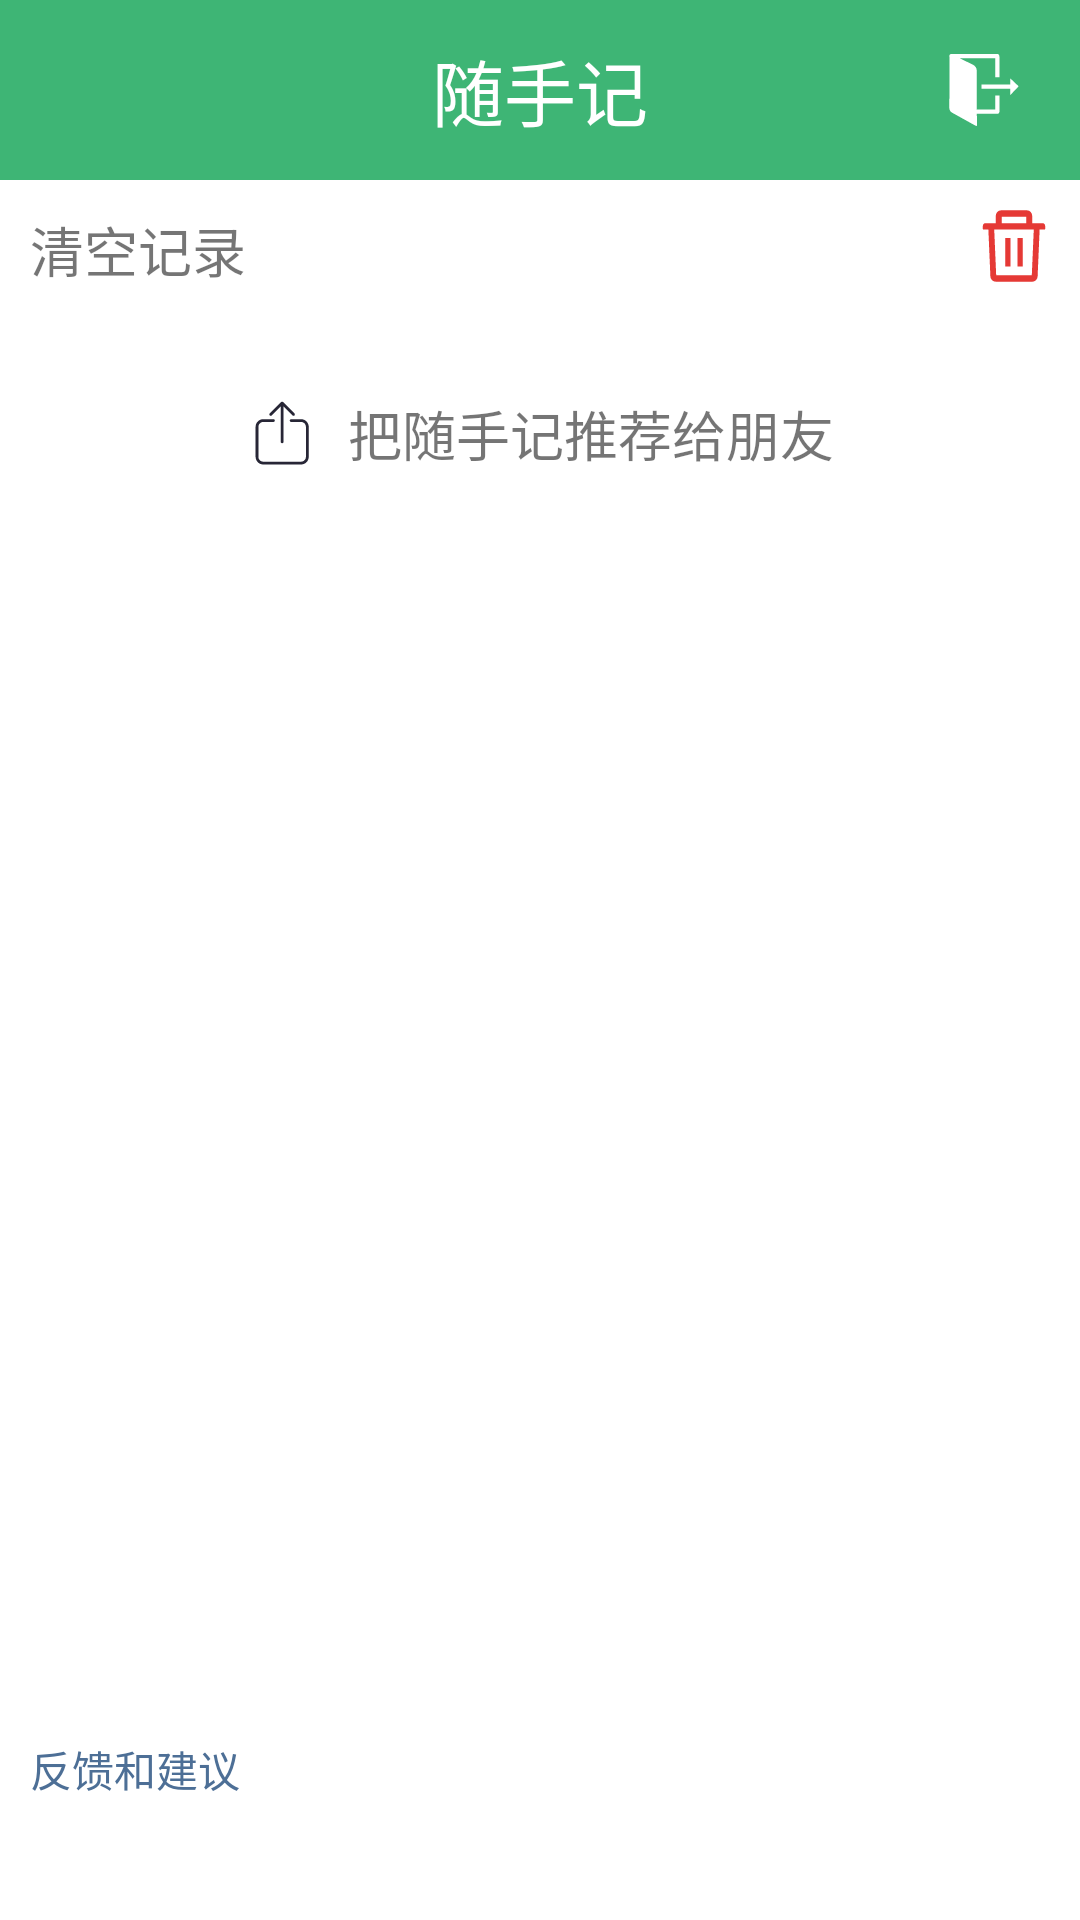

Named icons in this screenshot (1080px×1920px) and their centers, (x,y):
分享: (282,433)
清空: (1014,246)
